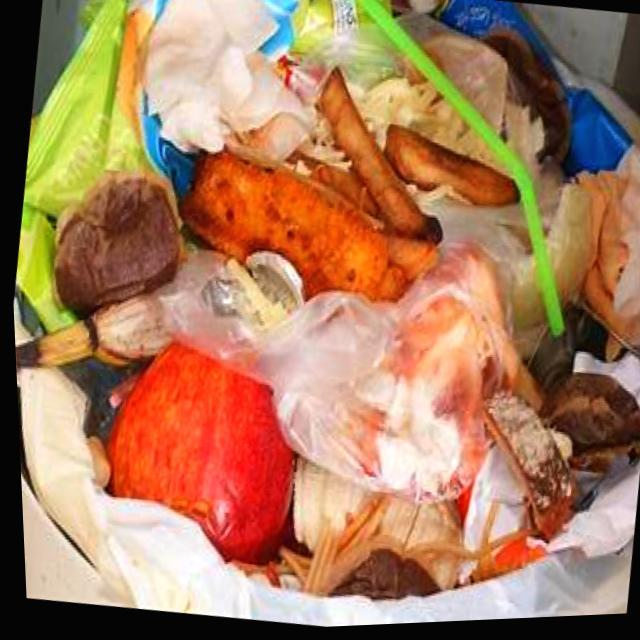Garbage: (10, 0, 640, 618)
Plastic_Bag: (89, 248, 532, 504), (358, 0, 560, 339)
